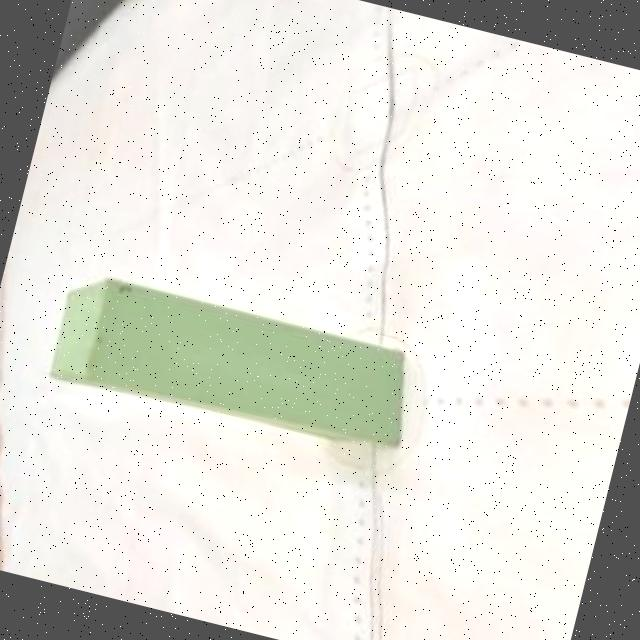greenbox: (41, 265, 422, 464)
